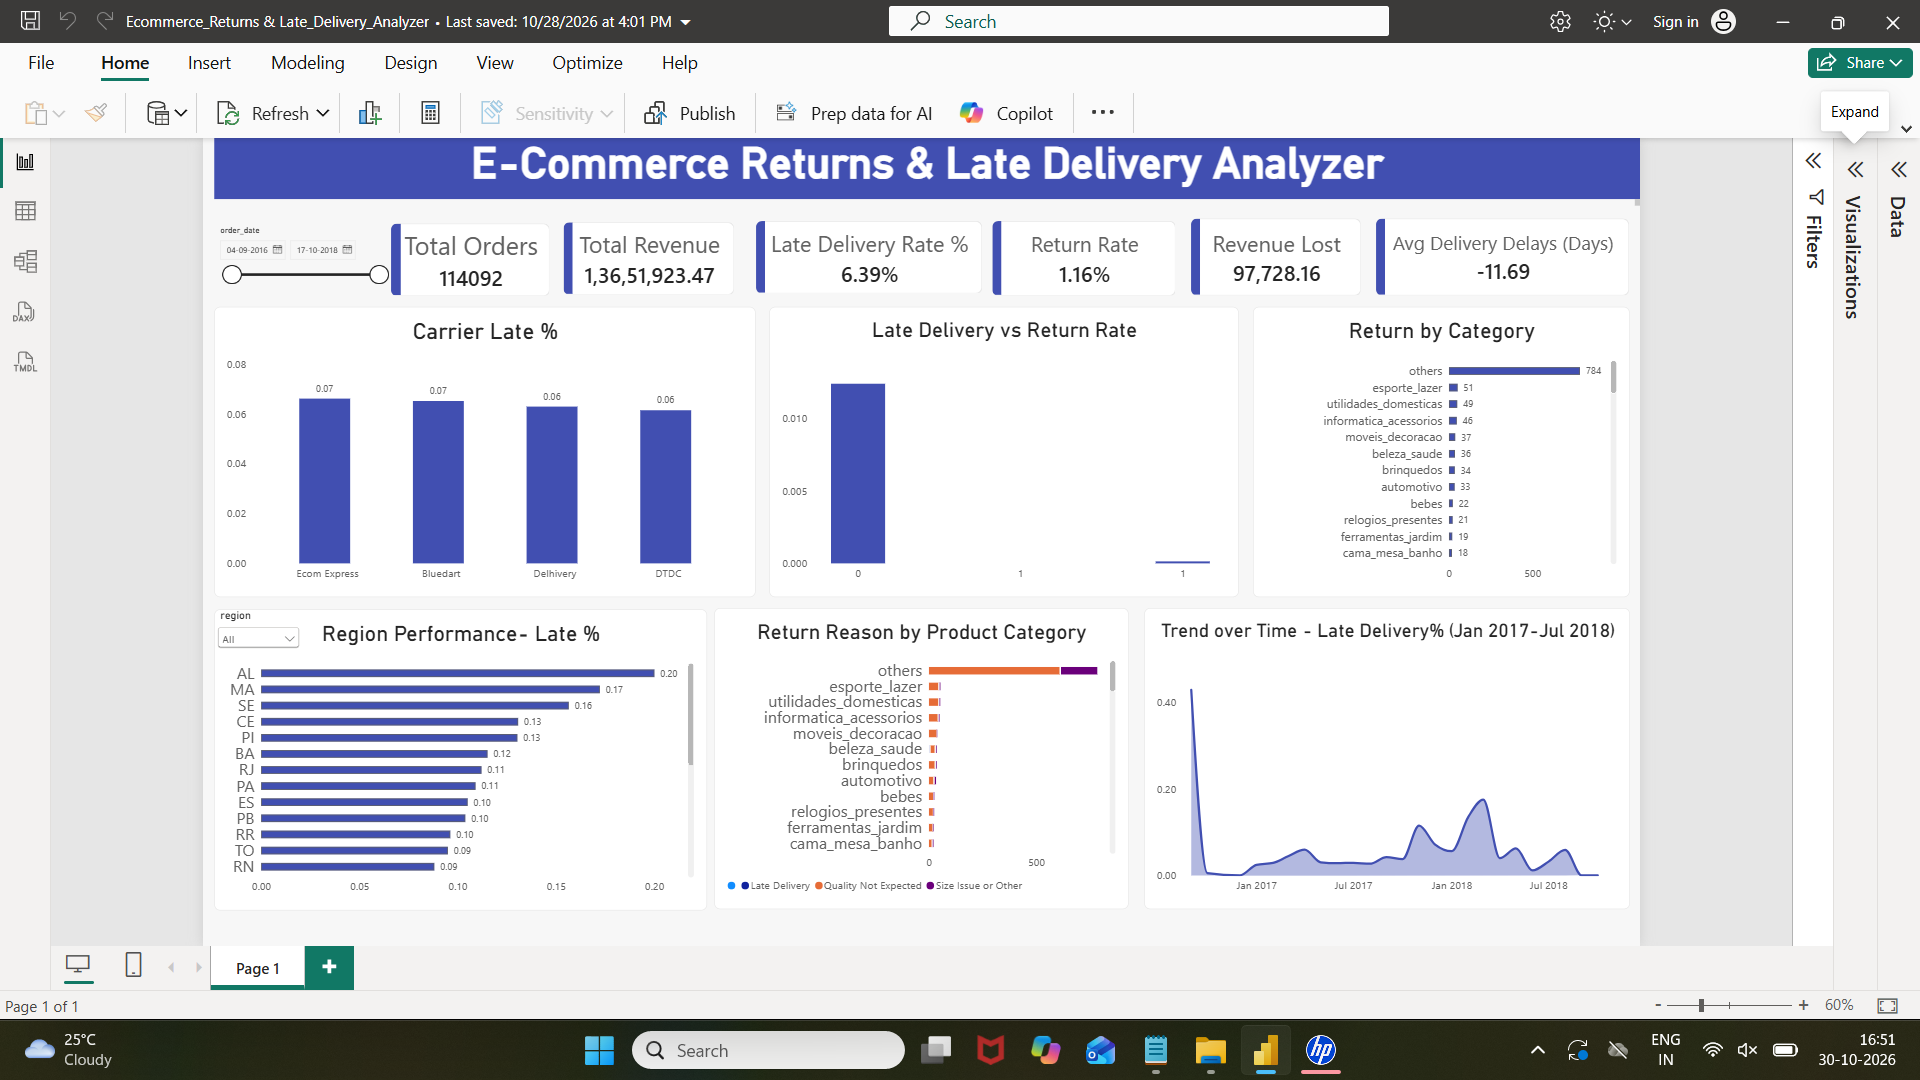

What the dashboard file says about the page in this screenshot:
{"tool":"powerbi","page":{"name":"Page 1","canvas":[1920,1080],"ordinal":0},"visuals":[{"type":"cardVisual","fields":{"Data":["CountNonNull(ecommerce_cleaned_final.order_id)"]},"box":[250.5,113.5,212.7,97.4],"z":0},{"type":"clusteredColumnChart","title":"Carrier Late %","fields":{"Category":["ecommerce_cleaned_final.carrier"],"Y":["Avg(ecommerce_cleaned_final.is_late)"]},"box":[14.4,225.4,722.9,387.6],"z":1000},{"type":"clusteredBarChart","title":"Return by Category","fields":{"Category":["ecommerce_cleaned_final.product_category"],"Y":["Sum(ecommerce_cleaned_final.return_flag)"]},"box":[1402.6,225.4,503,387.6],"z":2000},{"type":"clusteredBarChart","title":"Region Performance- Late %","fields":{"Category":["ecommerce_cleaned_final.region"],"Y":["Avg(ecommerce_cleaned_final.is_late)"]},"box":[14.4,629.2,658,402],"z":3000},{"type":"barChart","title":"Return Reason by Product Category","fields":{"Category":["ecommerce_cleaned_final.product_category"],"Series":["ecommerce_cleaned_final.return_reason"],"Y":["Sum(ecommerce_cleaned_final.return_flag)"]},"box":[683.3,627.4,553.5,402],"z":4000},{"type":"cardVisual","fields":{"Data":["ecommerce_cleaned_final.Total Revenue"]},"box":[480.9,111.9,229,97.4],"z":5000},{"type":"cardVisual","fields":{"Data":["ecommerce_cleaned_final.Revenue Lost"]},"box":[1319.1,106.9,227.1,103.5],"z":6000},{"type":"cardVisual","fields":{"Data":["ecommerce_cleaned_final.Late Delivery Rate"]},"box":[738,110.2,302.9,97.4],"z":7000},{"type":"cardVisual","fields":{"Data":["ecommerce_cleaned_final.Return Rate"]},"box":[1053.6,110.2,245.5,100.2],"z":8000},{"type":"cardVisual","fields":{"Data":["Avg(ecommerce_cleaned_final.delivery_delay_days)"]},"box":[1566.2,106.9,339,103.5],"z":9000},{"type":"lineChart","title":"Trend over Time - Late Delivery% (Jan 2017-Jul 2018)","fields":{"Category":["ecommerce_cleaned_final.order_date.Variation.Date Hierarchy.Year","ecommerce_cleaned_final.order_date.Variation.Date Hierarchy.Month"],"Y":["Avg(ecommerce_cleaned_final.is_late)"]},"box":[1256.6,627.4,649,402],"z":10000},{"type":"clusteredColumnChart","title":"Late Delivery vs Return Rate","fields":{"Category":["ecommerce_cleaned_final.is_late"],"Y":["Avg(ecommerce_cleaned_final.return_flag)"]},"box":[757.2,225.4,627.4,387.6],"z":11000},{"type":"slicer","fields":{"Values":["ecommerce_cleaned_final.order_date"]},"box":[14.4,117.2,236.2,93.7],"z":12000},{"type":"textbox","title":"E-Commerce Returns  &  Late Delivery Analyzer","box":[14.4,0,1905.6,90.1],"z":13000},{"type":"slicer","fields":{"Values":["ecommerce_cleaned_final.region"]},"box":[14.4,629.2,119,64.9],"z":13001}]}

Visuals, with their boxes on the page's 1920x1080 design canvas (x1, y1, x2, y2). These are canvas units, not pixel positions in the 1920x1080 screenshot, which may show the page scaled, cropped or inside an application window:
cardVisual - CountNonNull(ecommerce_cleaned_final.order_id): bbox=(250, 114, 463, 211)
"Carrier Late %" clusteredColumnChart: bbox=(14, 225, 737, 613)
"Return by Category" clusteredBarChart: bbox=(1403, 225, 1906, 613)
"Region Performance- Late %" clusteredBarChart: bbox=(14, 629, 672, 1031)
"Return Reason by Product Category" barChart: bbox=(683, 627, 1237, 1029)
cardVisual - ecommerce_cleaned_final.Total Revenue: bbox=(481, 112, 710, 209)
cardVisual - ecommerce_cleaned_final.Revenue Lost: bbox=(1319, 107, 1546, 210)
cardVisual - ecommerce_cleaned_final.Late Delivery Rate: bbox=(738, 110, 1041, 208)
cardVisual - ecommerce_cleaned_final.Return Rate: bbox=(1054, 110, 1299, 210)
cardVisual - Avg(ecommerce_cleaned_final.delivery_delay_days): bbox=(1566, 107, 1905, 210)
"Trend over Time - Late Delivery% (Jan 2017-Jul 2018)" lineChart: bbox=(1257, 627, 1906, 1029)
"Late Delivery vs Return Rate" clusteredColumnChart: bbox=(757, 225, 1385, 613)
slicer - ecommerce_cleaned_final.order_date: bbox=(14, 117, 251, 211)
"E-Commerce Returns  &  Late Delivery Analyzer" textbox: bbox=(14, 0, 1920, 90)
slicer - ecommerce_cleaned_final.region: bbox=(14, 629, 133, 694)
